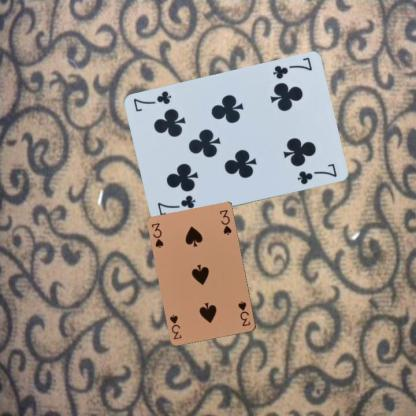3s: (236, 298, 252, 328), (149, 220, 165, 250)
7c: (270, 55, 313, 81), (154, 193, 197, 217)
